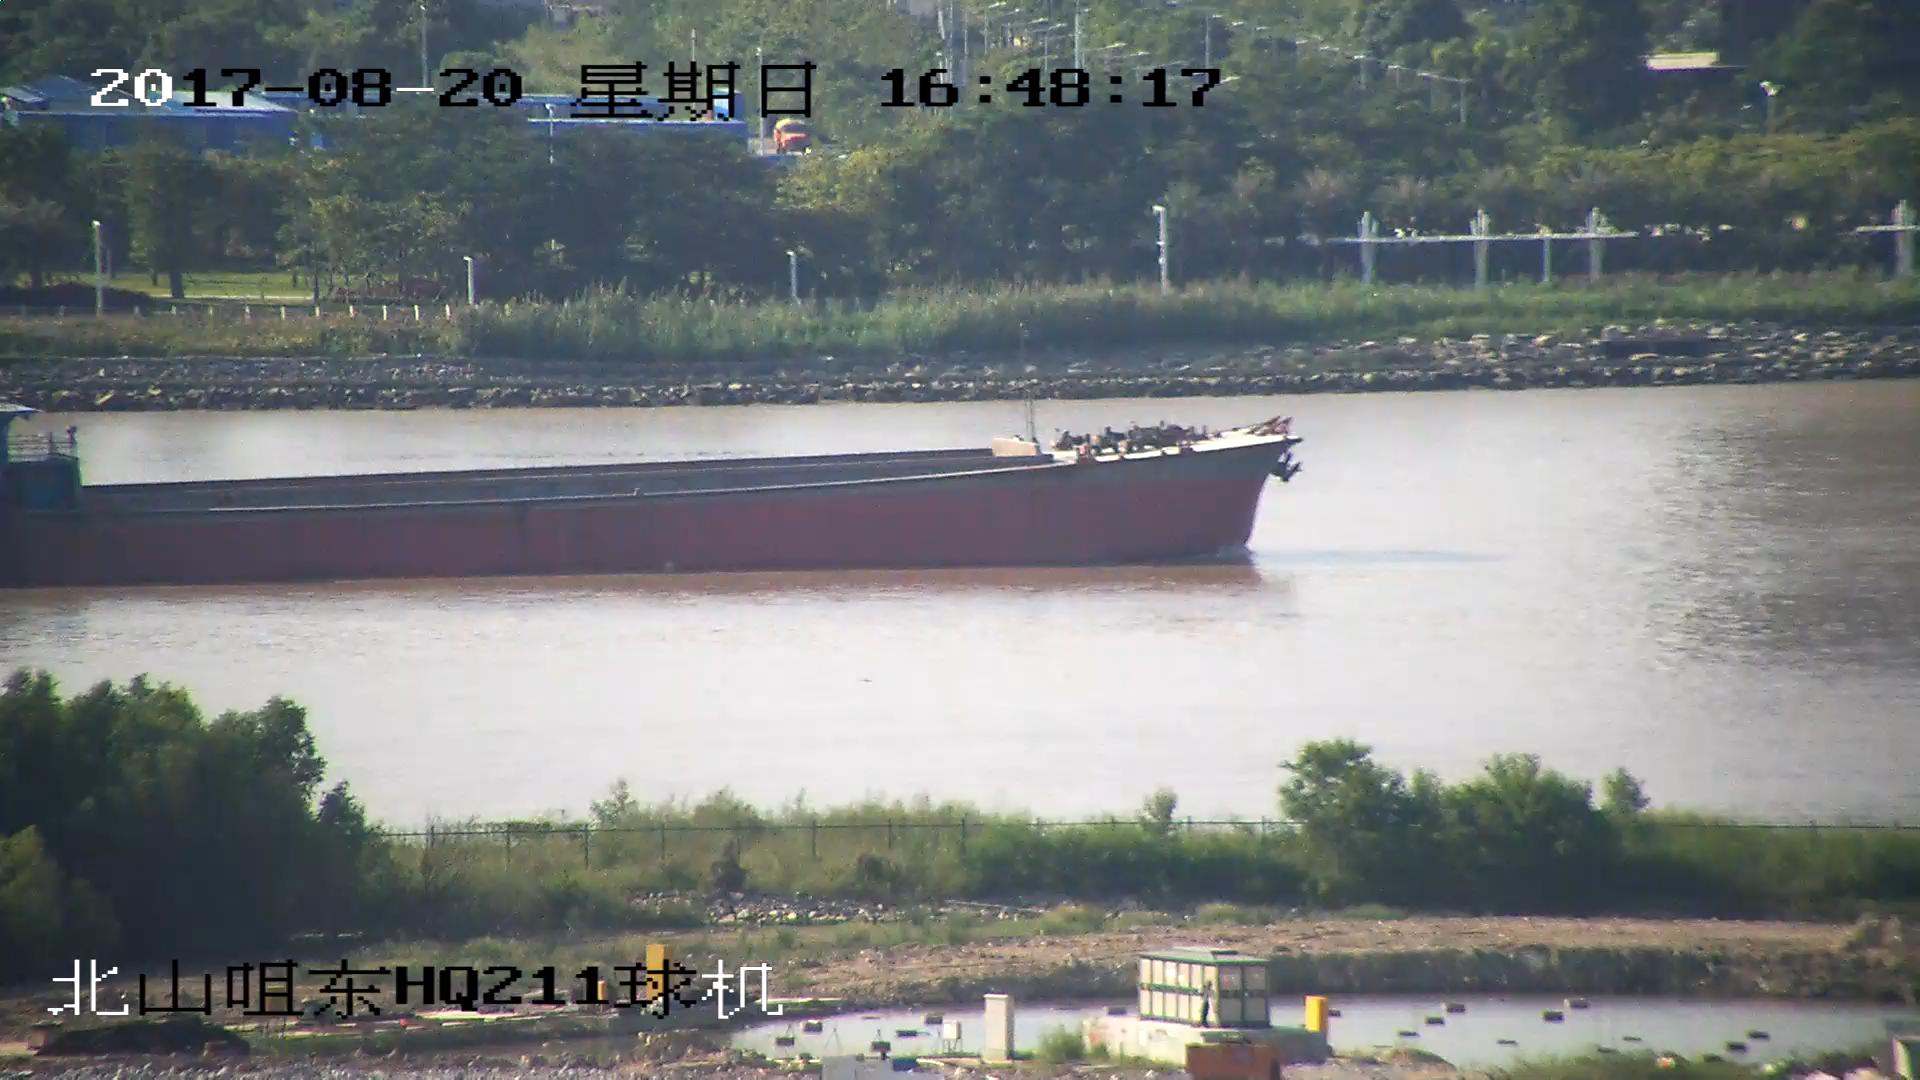bulk cargo carrier: (1, 403, 1300, 589)
